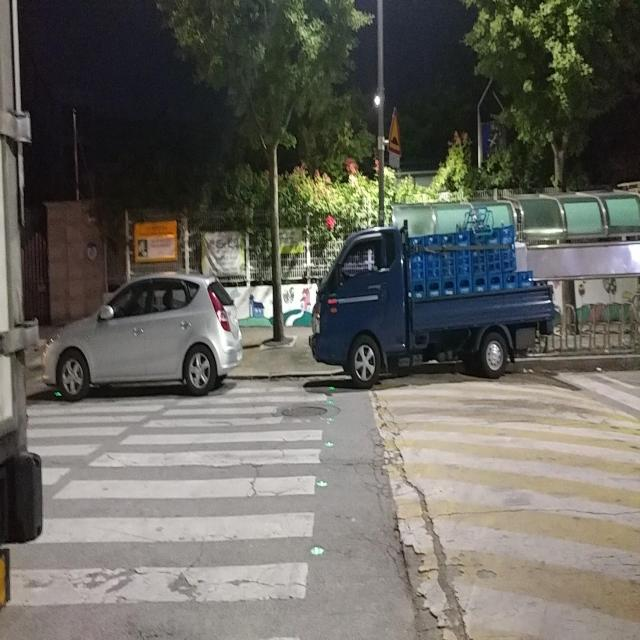횡단보도: (1, 384, 328, 608)
